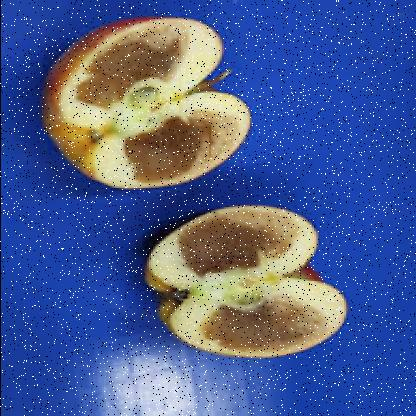damaged_apple: (37, 18, 246, 188), (140, 207, 346, 360)
